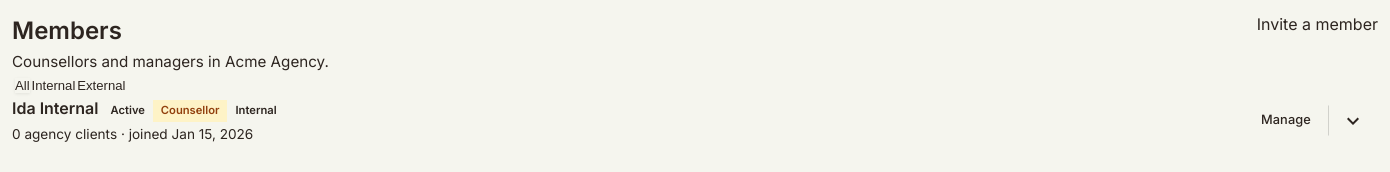
Test: AgencyMembersPage › shows an empty state naming the filter when it excludes every member
This screenshot has width=1390, height=172.
Click the tab "External" at (101, 85), box [77,78,125,93]
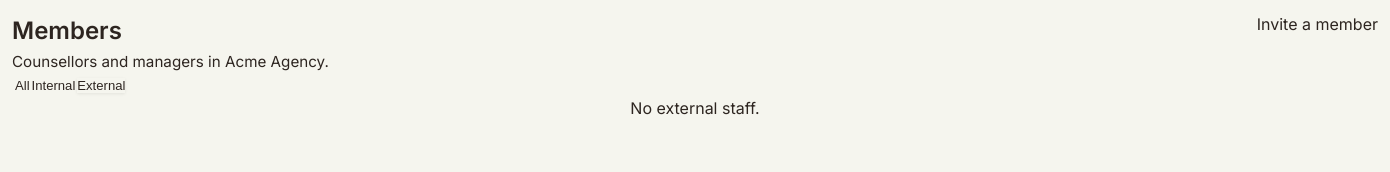
Check: the text "No external staff." is shown, box [630,98,760,118]
